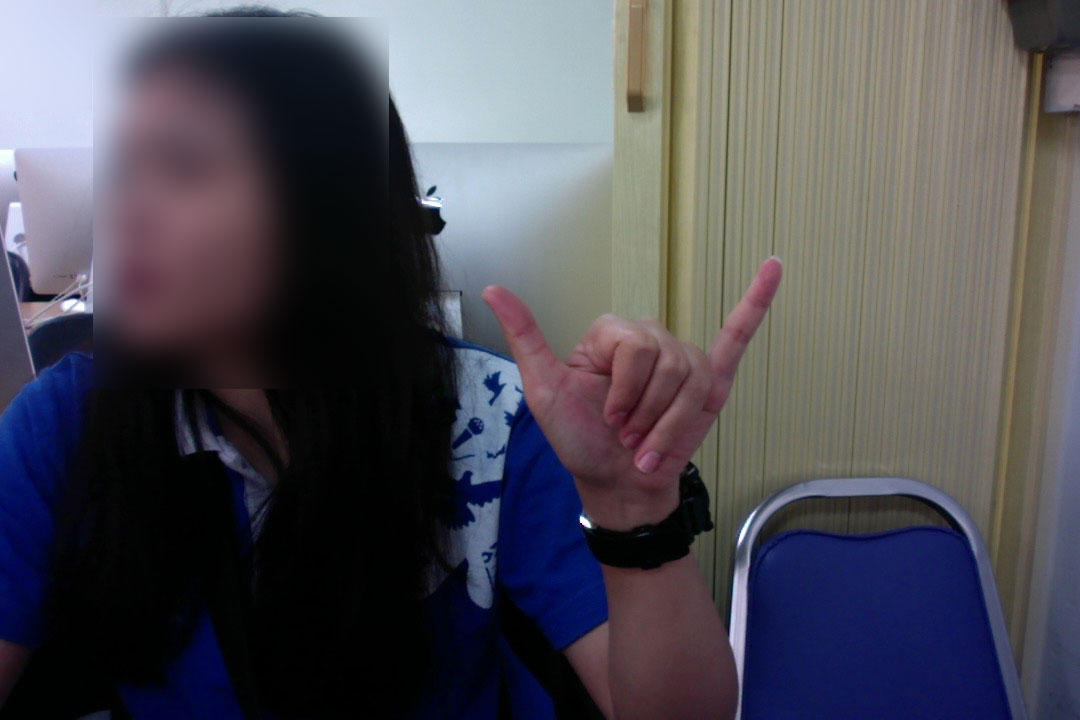yor: (476, 250, 794, 523)
